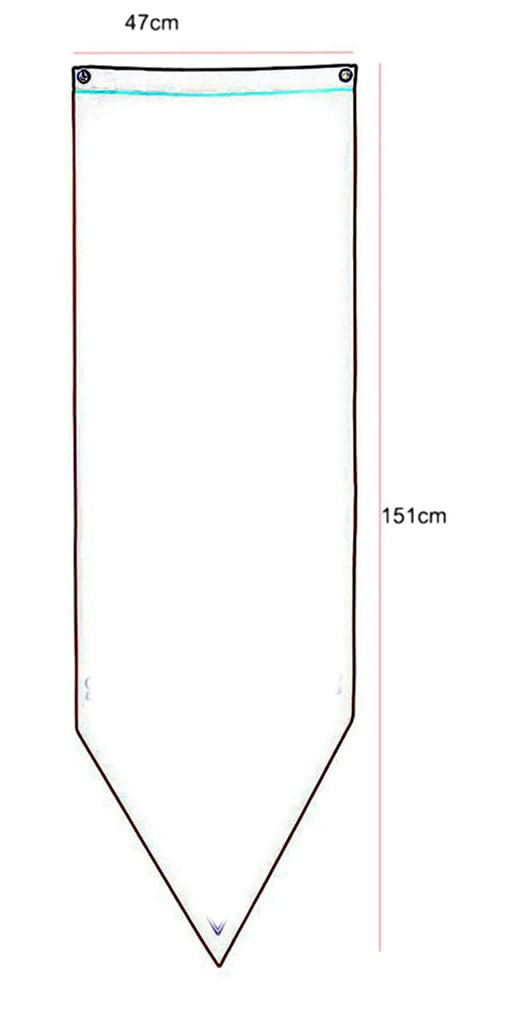151cm: (383, 507, 446, 524)
47cm: (125, 14, 178, 31)
